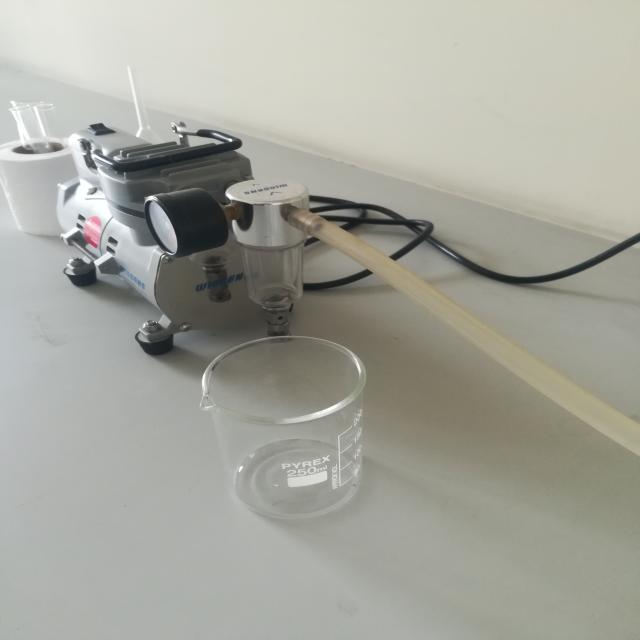Beaker: (144, 302, 418, 546)
